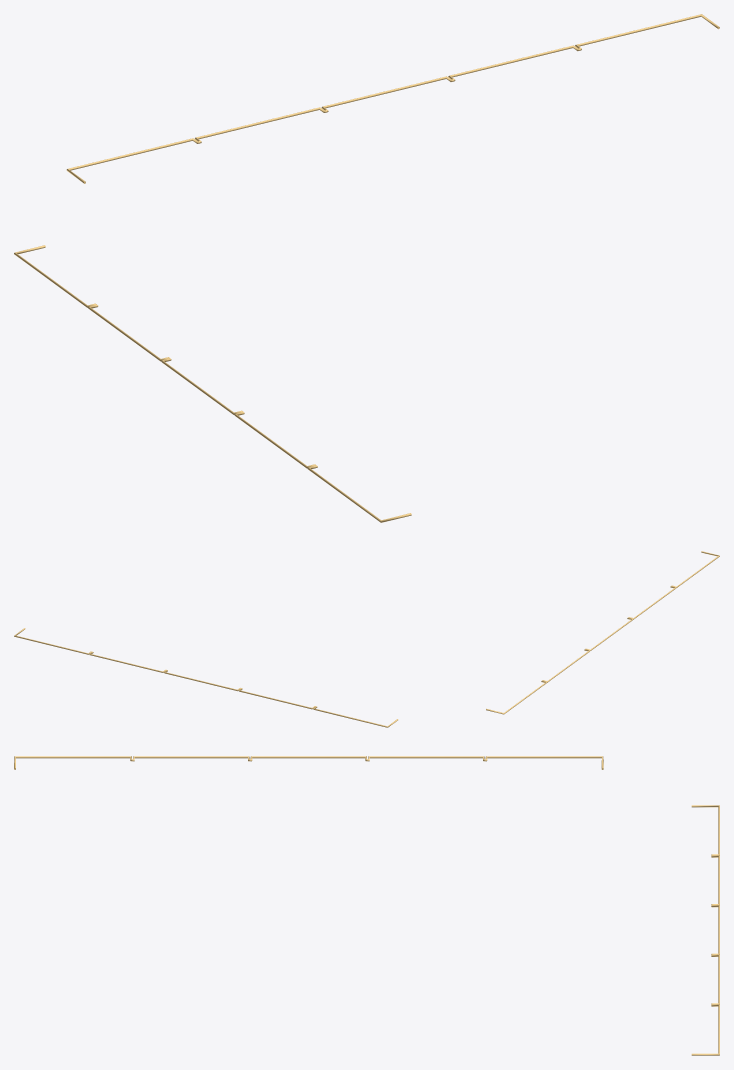
File: PenthouseBarFloorLights_mesh.fbx
The picture shows the model from 3 angles, top to bottom: view 1: azimuth 30°, elevation 25°; view 2: azimuth 150°, elevation 25°; view 3: azimuth 270°, elevation 25°; orthographic projection. The views are drawn at different scales.
Parts seen in each view (by area): view 1: PenthouseBarFloorLights_mesh; view 2: PenthouseBarFloorLights_mesh; view 3: PenthouseBarFloorLights_mesh.
Part boxes in pixels (<box>): PenthouseBarFloorLights_mesh: <box>14,14,719,522</box>; PenthouseBarFloorLights_mesh: <box>14,551,719,727</box>; PenthouseBarFloorLights_mesh: <box>14,756,719,1055</box>.
Bounding box in the file's own units: 116 × 0.3544 × 116.
